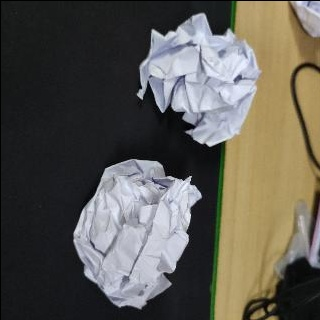8/可回收垃圾/纸: (72, 159, 202, 310), (135, 12, 261, 147)
